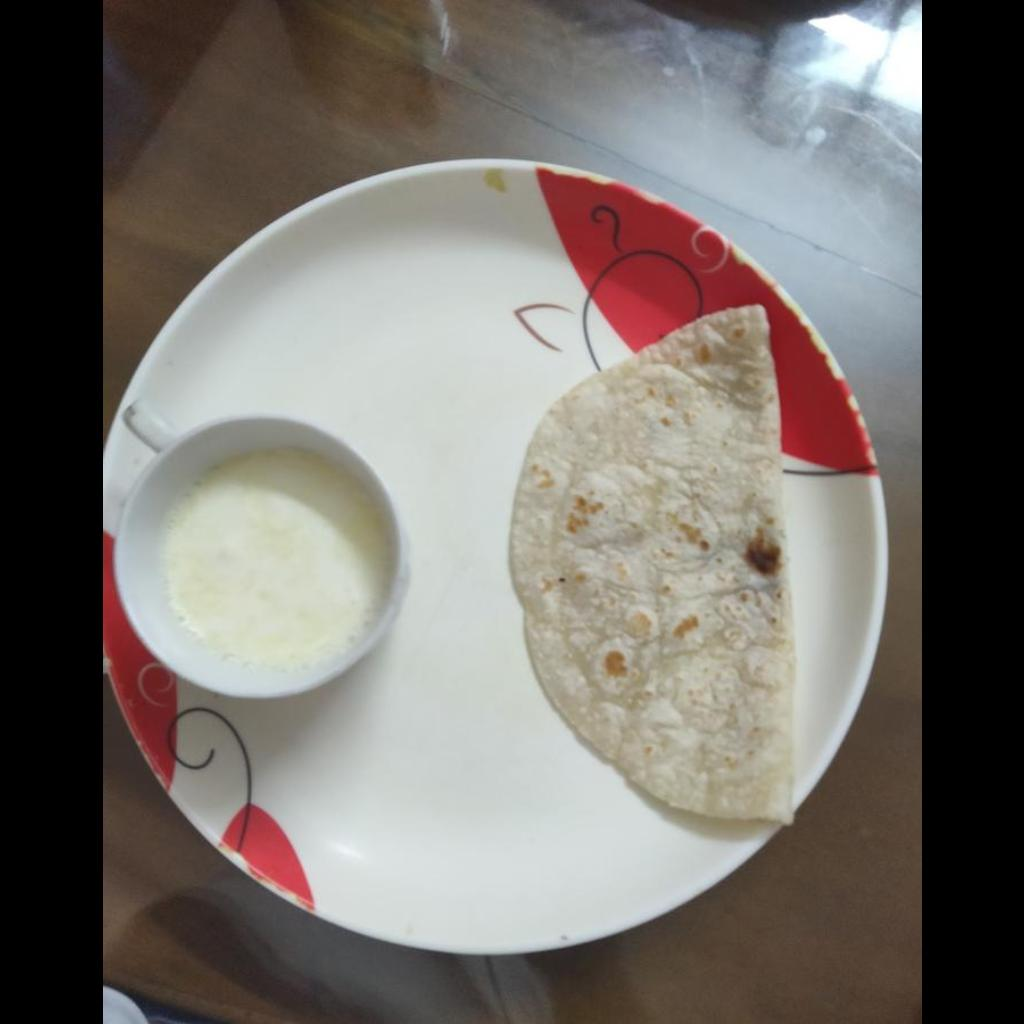milk: (168, 453, 383, 660)
ruti: (506, 301, 797, 821)
